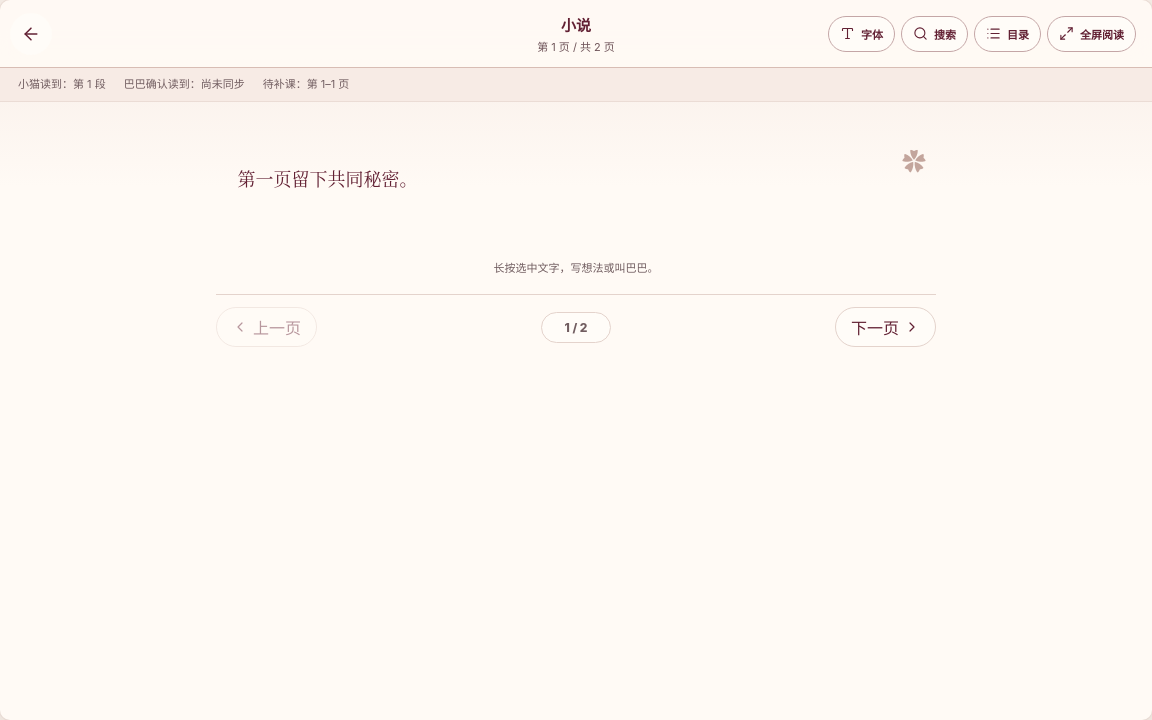
Test case: NovelReader › searches body text, saved highlights, and clear thoughts and jumps to a result
Click the button with aria-label "全文搜索" at (934, 34), box x1=901 y1=16 x2=968 y2=52
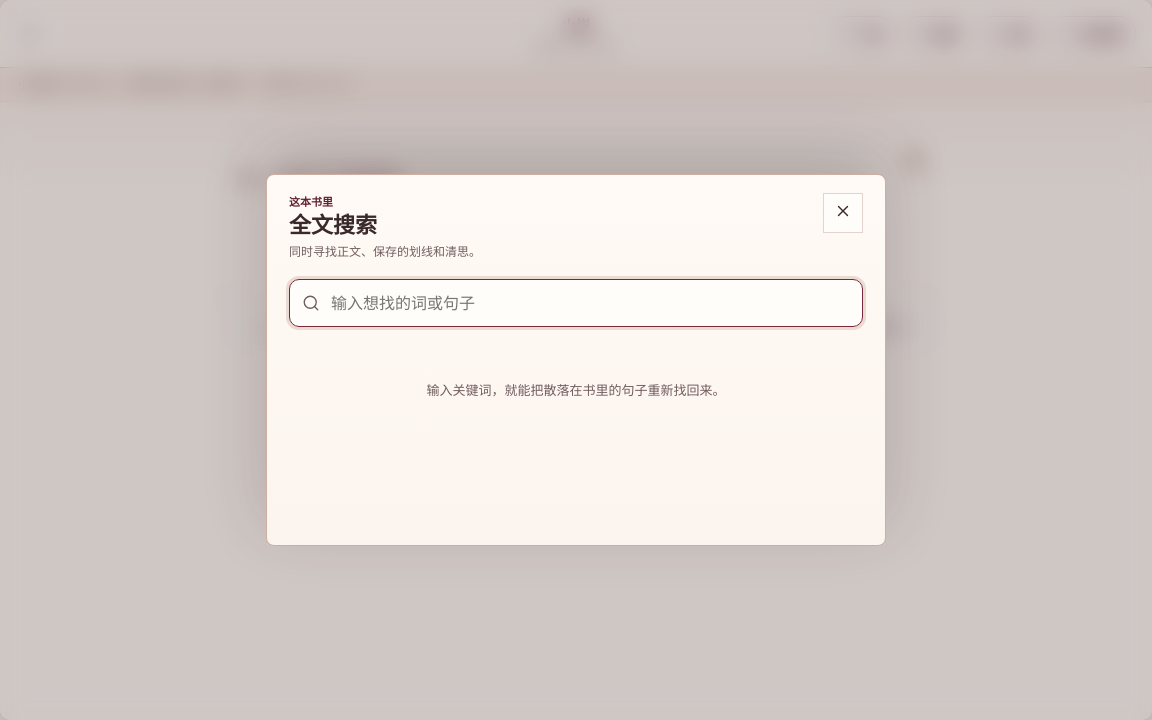
Type "共同秘密" into the search field named "搜索书内文字、划线和清思" at (590, 303), box x1=331 y1=280 x2=850 y2=326
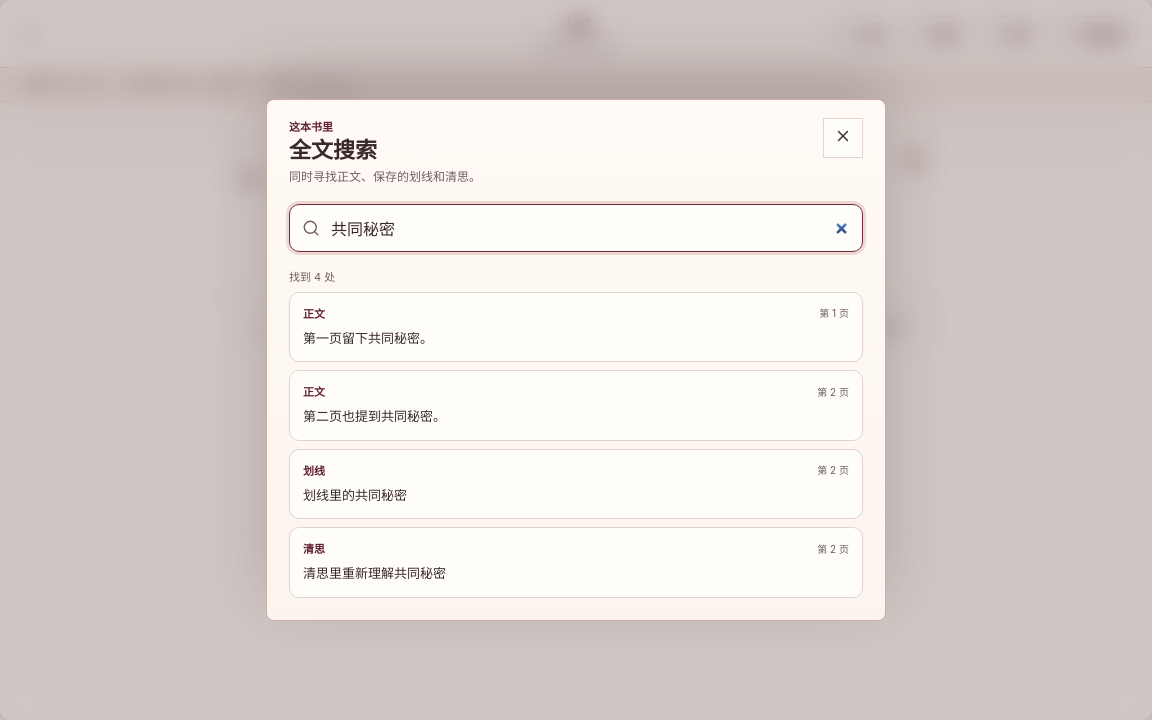
Check: the text "找到 4 处" is shown, box x1=289 y1=270 x2=335 y2=284
Check: the text "划线" is shown, box x1=303 y1=462 x2=325 y2=478
Check: the text "清思" is shown, box x1=303 y1=540 x2=325 y2=556
Click the button "正文 第 2 页 第二页也提到共同秘密。" at (375, 416), box x1=289 y1=370 x2=863 y2=441
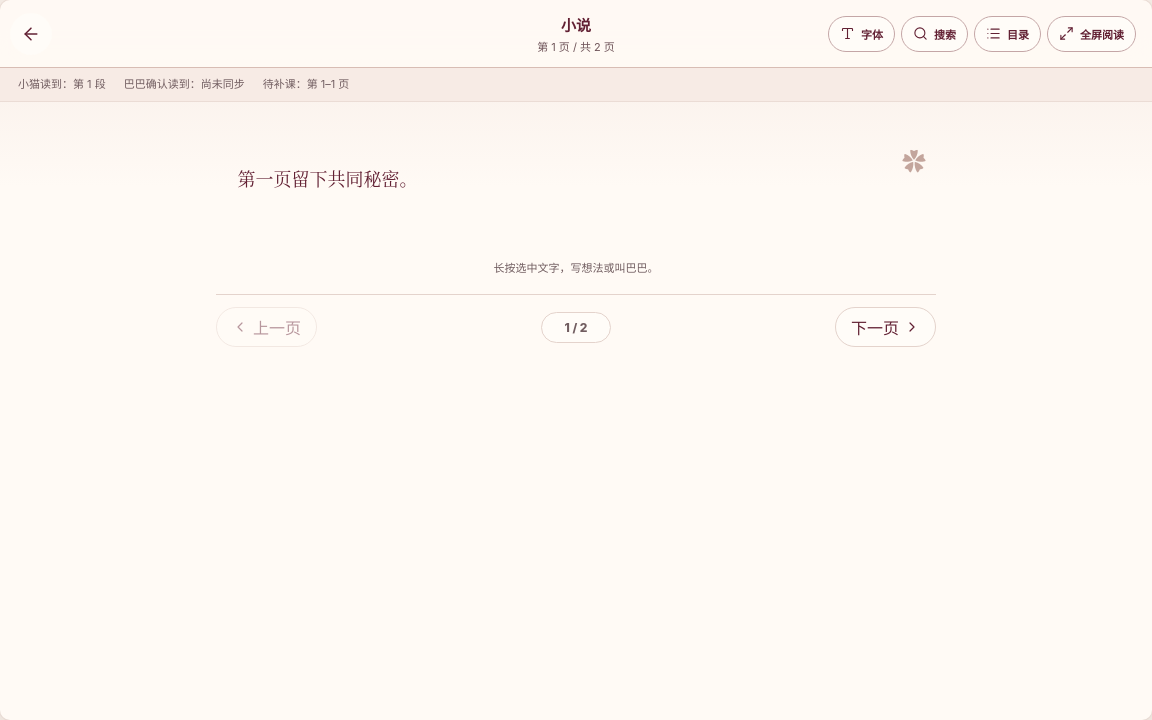
Check: the heading "全文搜索" is gone
